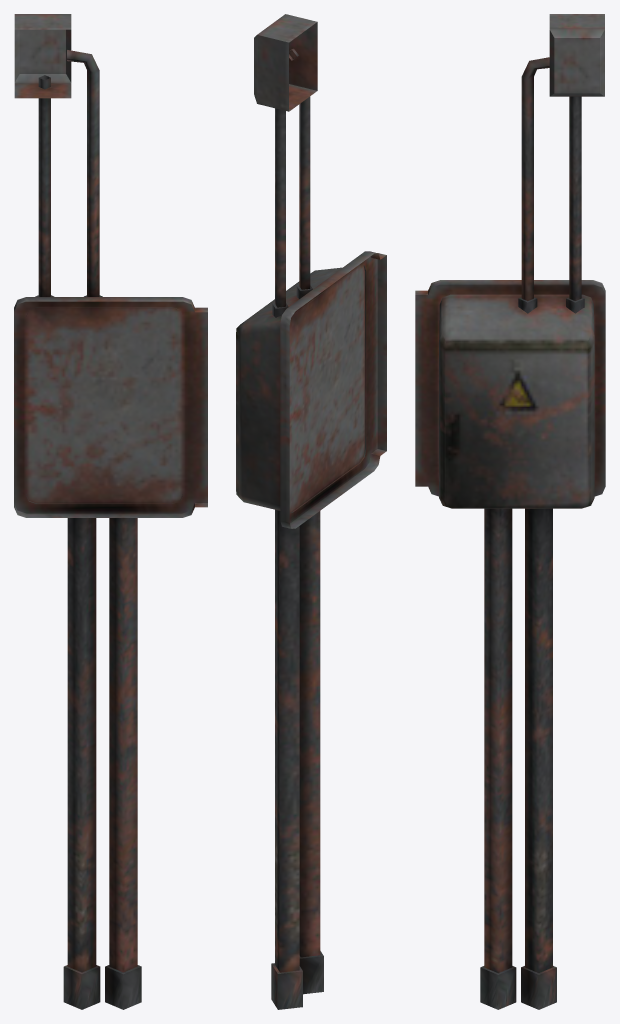
The model's file is FuseBoxes_03.FBX.
The picture shows the model from 3 angles, left to right: view 1: azimuth 90°, elevation 25°; view 2: azimuth 150°, elevation 25°; view 3: azimuth 270°, elevation 25°; orthographic projection. The views are drawn at different scales.
Parts seen in each view (by area): view 1: FuseBoxes_03; view 2: FuseBoxes_03; view 3: FuseBoxes_03.
Boxes of the visible parts, bbox=[...] form: FuseBoxes_03: bbox=[14, 14, 207, 1009]; FuseBoxes_03: bbox=[236, 14, 386, 1009]; FuseBoxes_03: bbox=[415, 14, 605, 1009].
Bounding box in the file's own units: 13.45 × 204 × 36.3.
